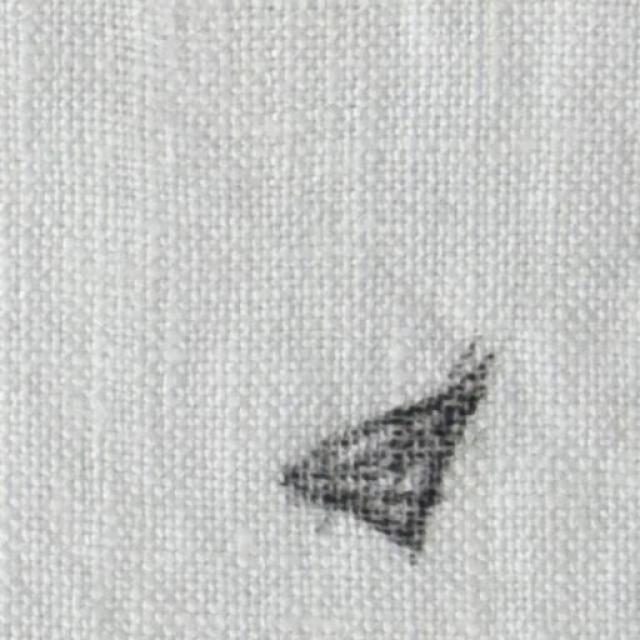Stain: (268, 332, 502, 552)
